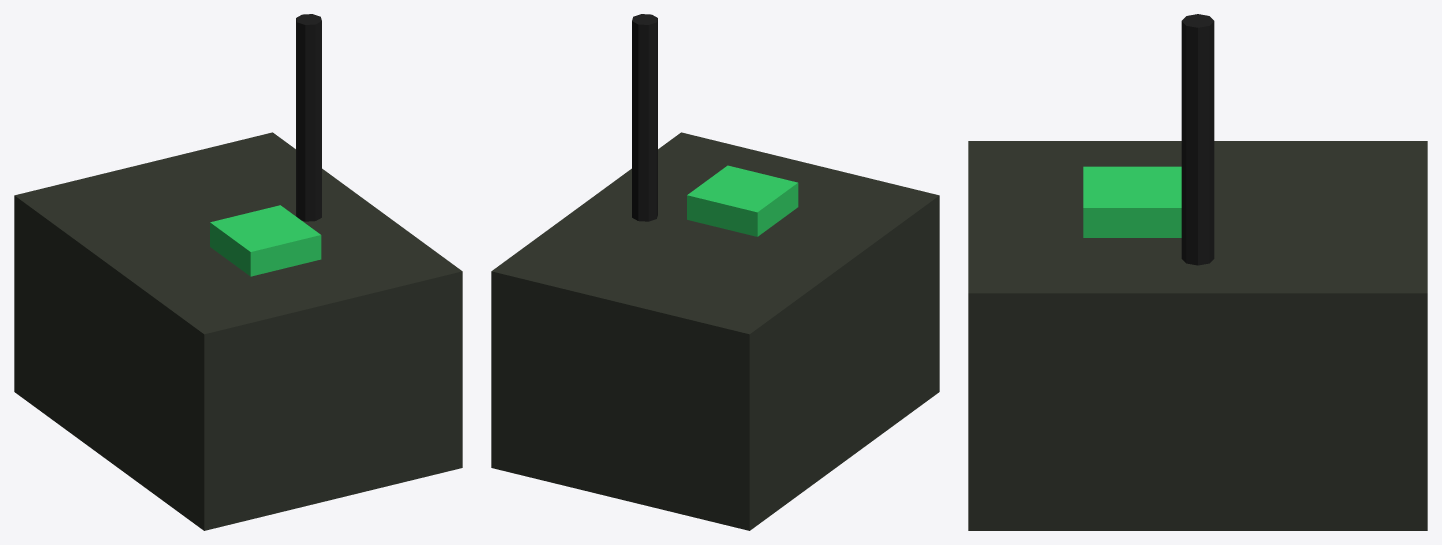
The model's file is g_ads.glb.
3 views of the same model, side by side, from view 1: azimuth 30°, elevation 25°; view 2: azimuth 150°, elevation 25°; view 3: azimuth 270°, elevation 25° (orthographic). The views are drawn at different scales.
Visible parts, largest first — view 1: body, body_glow; view 2: body, body_glow; view 3: body, body_glow.
Part boxes in pixels (box(x1,y1,x2,y2)): body: box(14, 14, 462, 530); body_glow: box(210, 205, 321, 276); body: box(491, 14, 939, 530); body_glow: box(687, 165, 798, 236); body: box(968, 14, 1427, 530); body_glow: box(1083, 166, 1181, 237).
Size of the model in its own units: 0.11 by 0.16 by 0.14.
